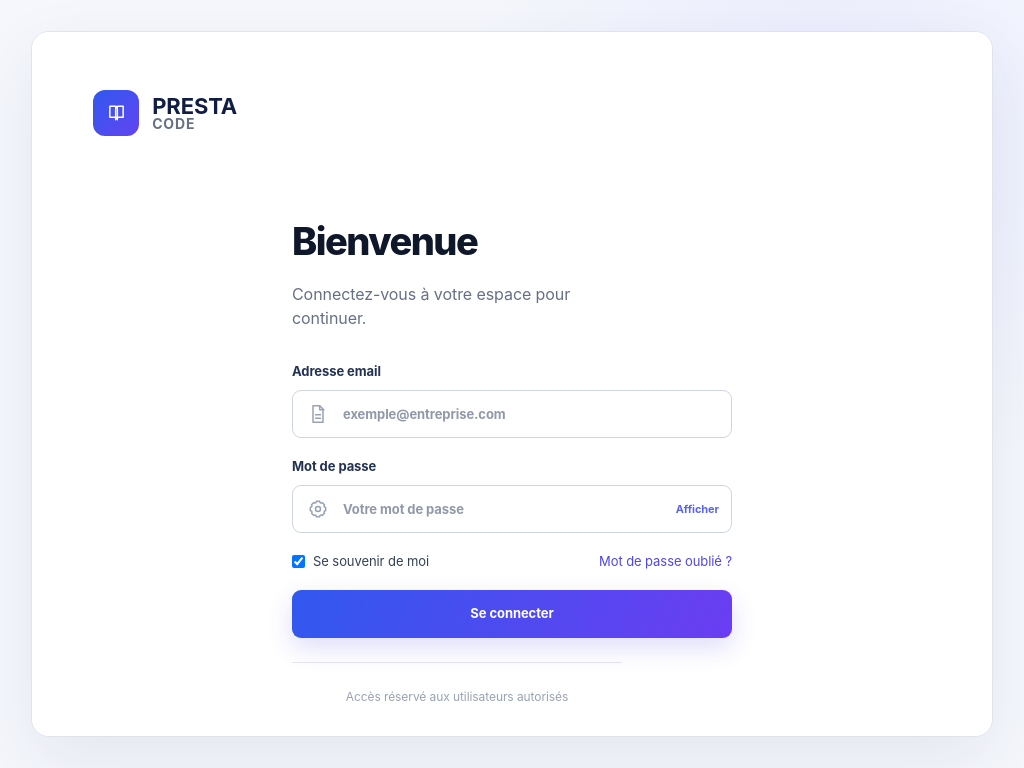
Test case: Page de connexion › affiche les erreurs de validation en français
Click the button "Se connecter" at (512, 614), box x1=292 y1=590 x2=732 y2=638
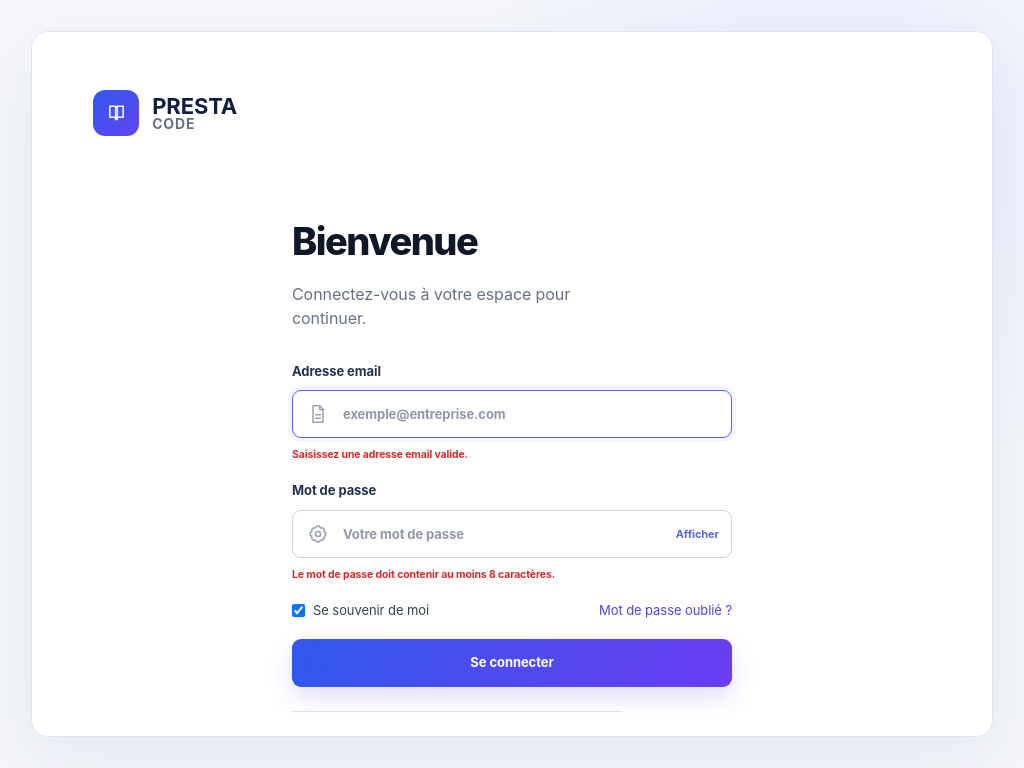
Result: the text "Saisissez une adresse email valide." is shown at x1=292 y1=448 x2=468 y2=461
Result: the text "Le mot de passe doit contenir au moins 8 caractères." is shown at x1=292 y1=568 x2=555 y2=581
